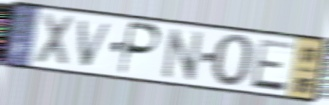E: (249, 37, 296, 94)
N: (161, 25, 205, 82)
O: (210, 32, 257, 90)
P: (116, 20, 162, 77)
V: (77, 18, 116, 70)
X: (31, 10, 78, 70)
